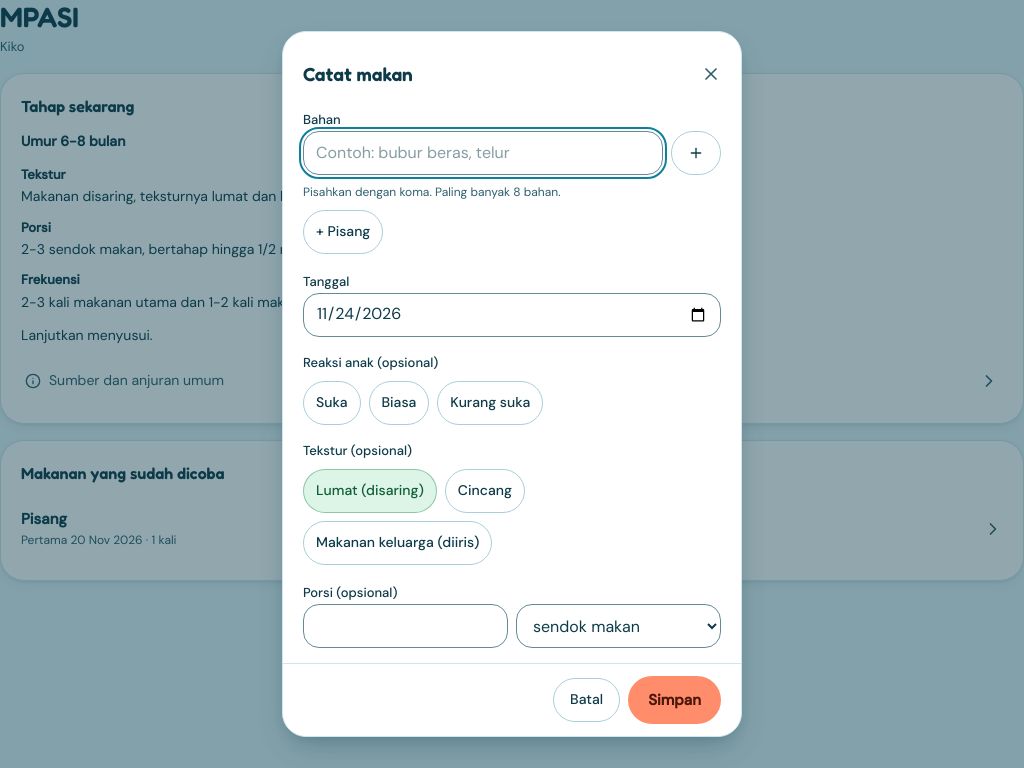
Scenario: Catat makan › pernah dicoba muncul sebagai pilihan cepat
Click the button "+ Pisang" at (343, 232), box x1=303 y1=210 x2=383 y2=254
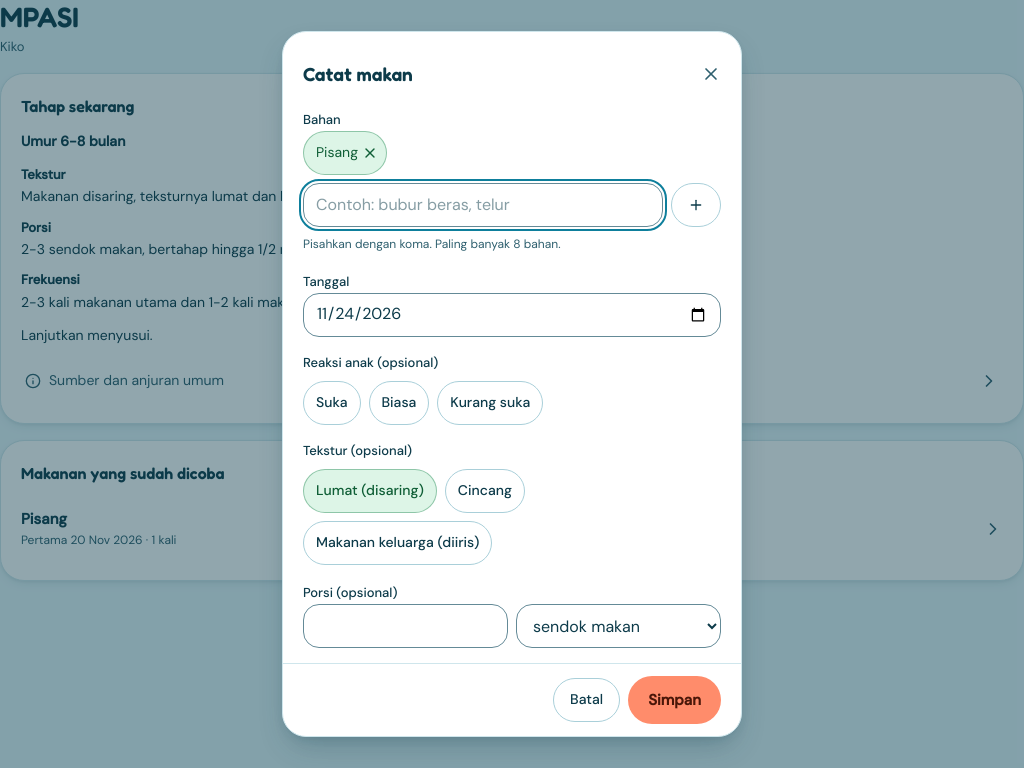
Check: the button with aria-label "Hapus Pisang" is shown, box x1=303 y1=131 x2=387 y2=175
